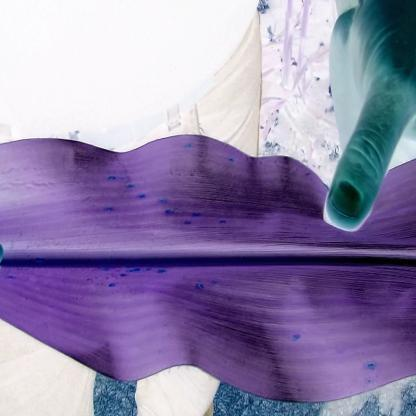Corn rust leaf: (6, 134, 326, 406)
